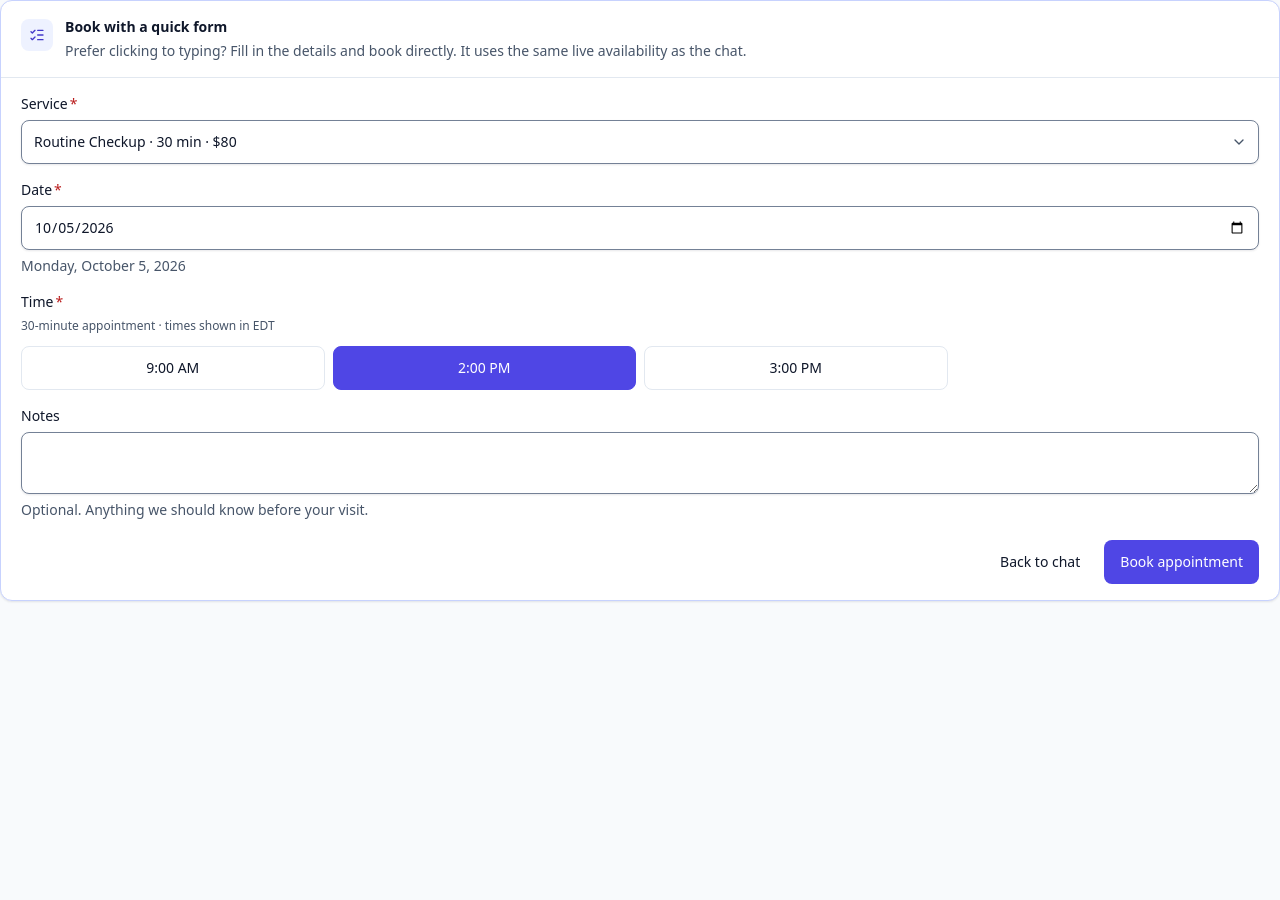
Test case: FallbackFormCard › server errors › anything else is shown as a form-level alert, with the form still usable
This screenshot has width=1280, height=900.
Expected: the radio button labelled "2:00 PM" is shown, [332,346,636,390]
Click the button "Book appointment" at (1182, 562), box [1104,540,1259,584]
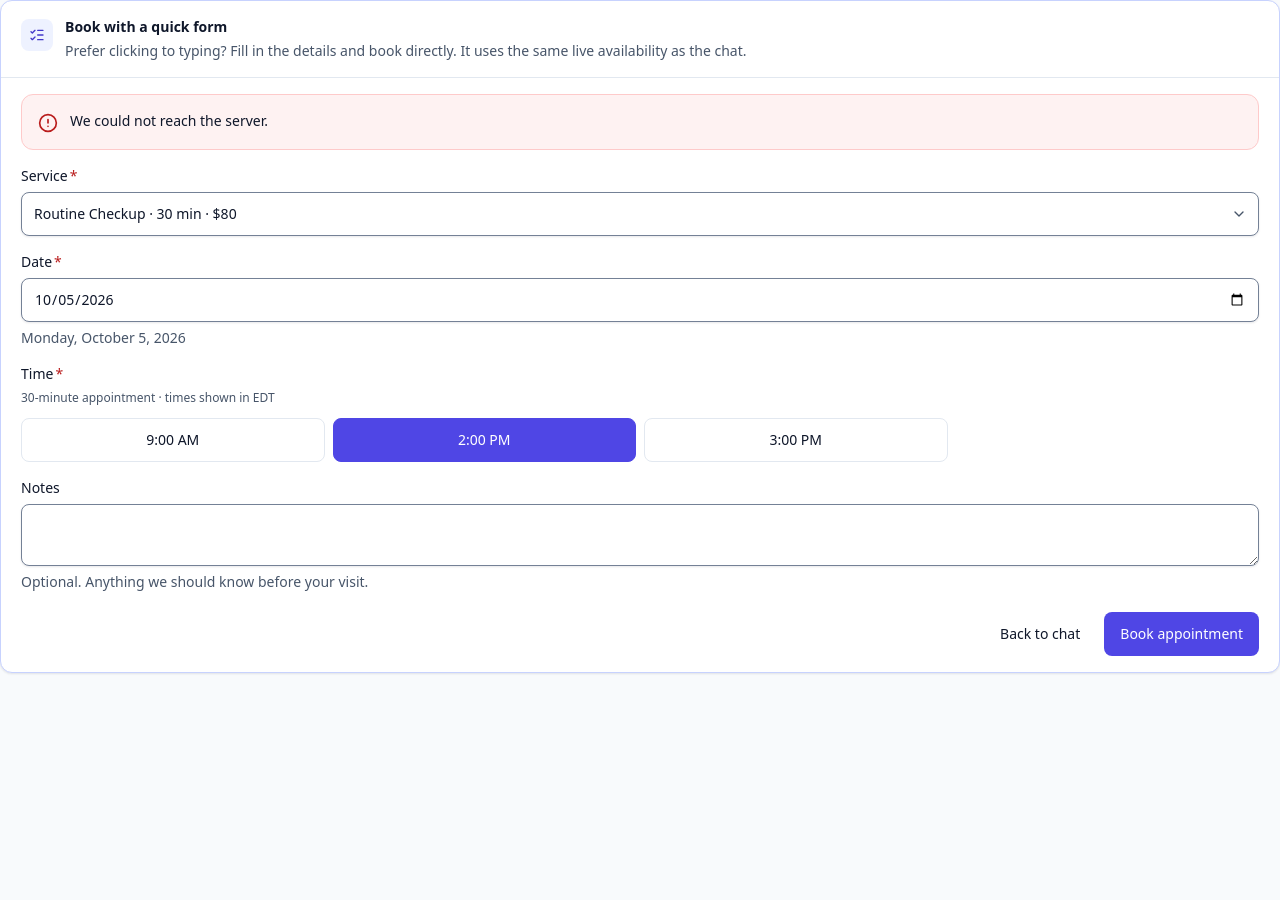
Expected: the button "Book appointment" is enabled, [1104,612,1259,656]
Result: the message reads "We could not reach the server." at [70,111,268,130]
